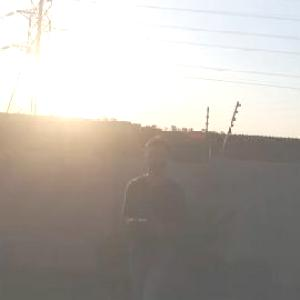follow: (115, 127, 194, 299)
